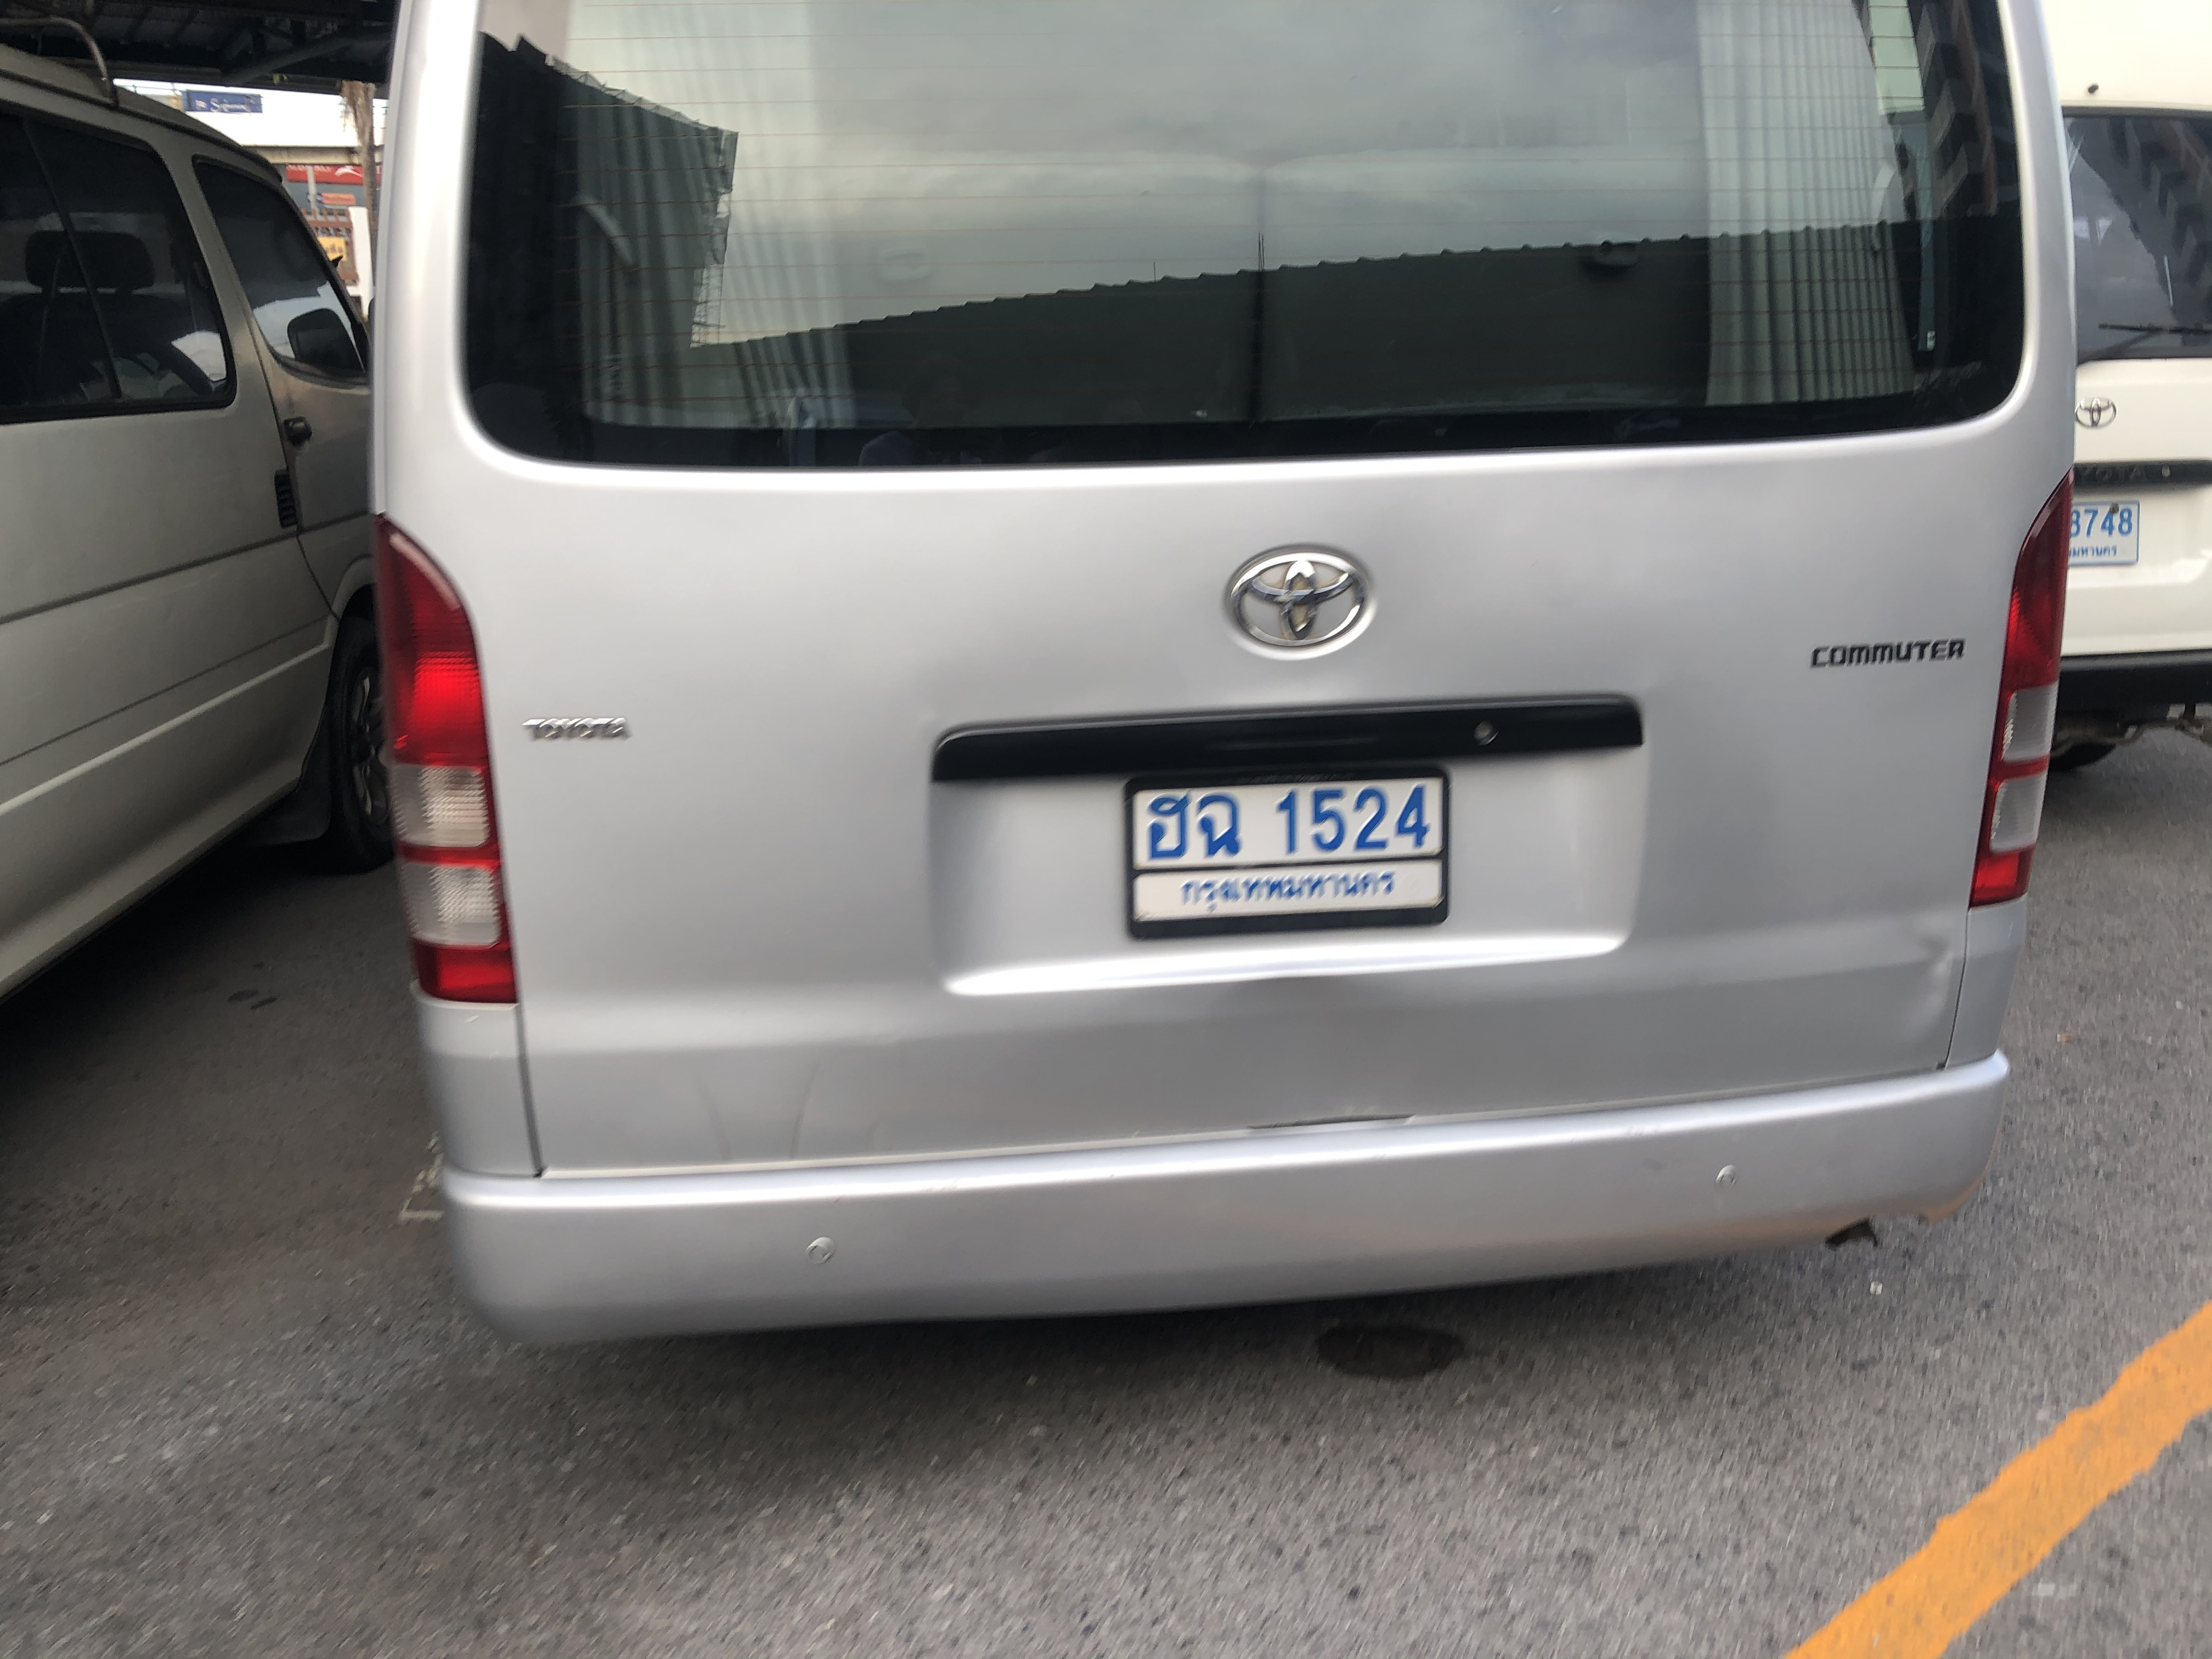in: (1139, 795, 1444, 903)
out: (1122, 762, 1453, 936)
